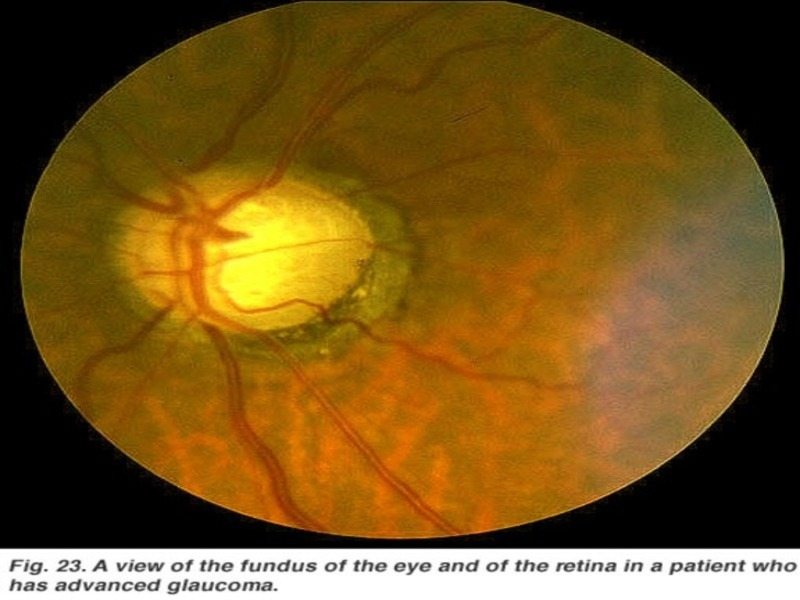Optic Cup: (210, 203, 318, 310)
Optic Disc: (107, 163, 375, 333)
